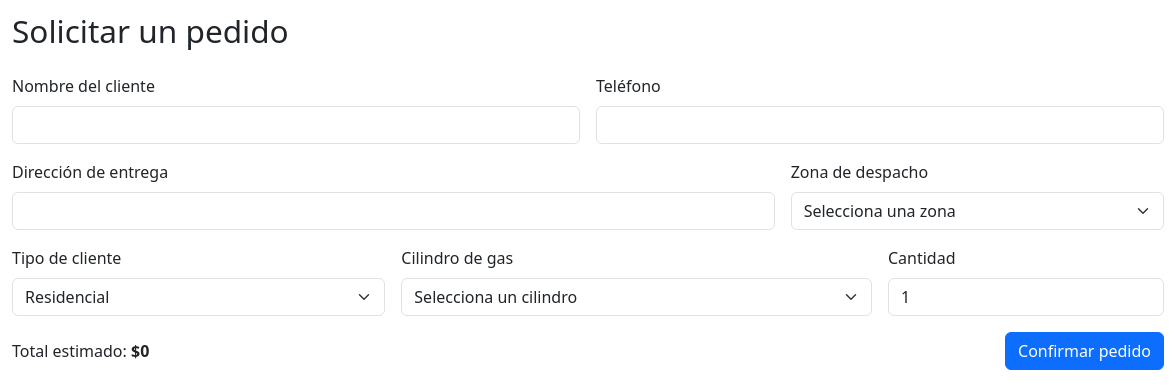
Test case: FormularioNuevoPedido › muestra los campos del pedido y calcula el precio residencial del catálogo
The width and height of the screenshot is (1176, 387).
Select "Cilindro GLP 11 kg" in the dropdown labelled "Cilindro de gas": {"x": 637, "y": 297} x1=401 y1=278 x2=872 y2=316
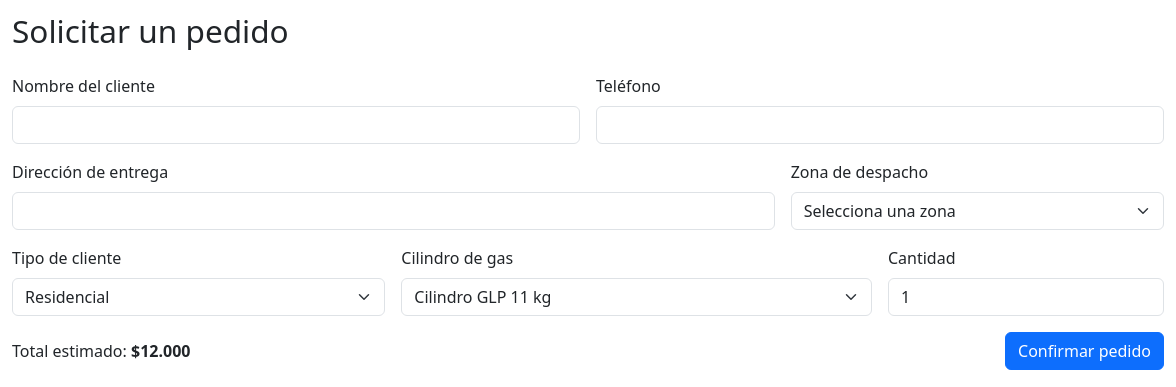
Expected: the text "Total estimado:" shows "$12.000", x1=12 y1=339 x2=190 y2=363
